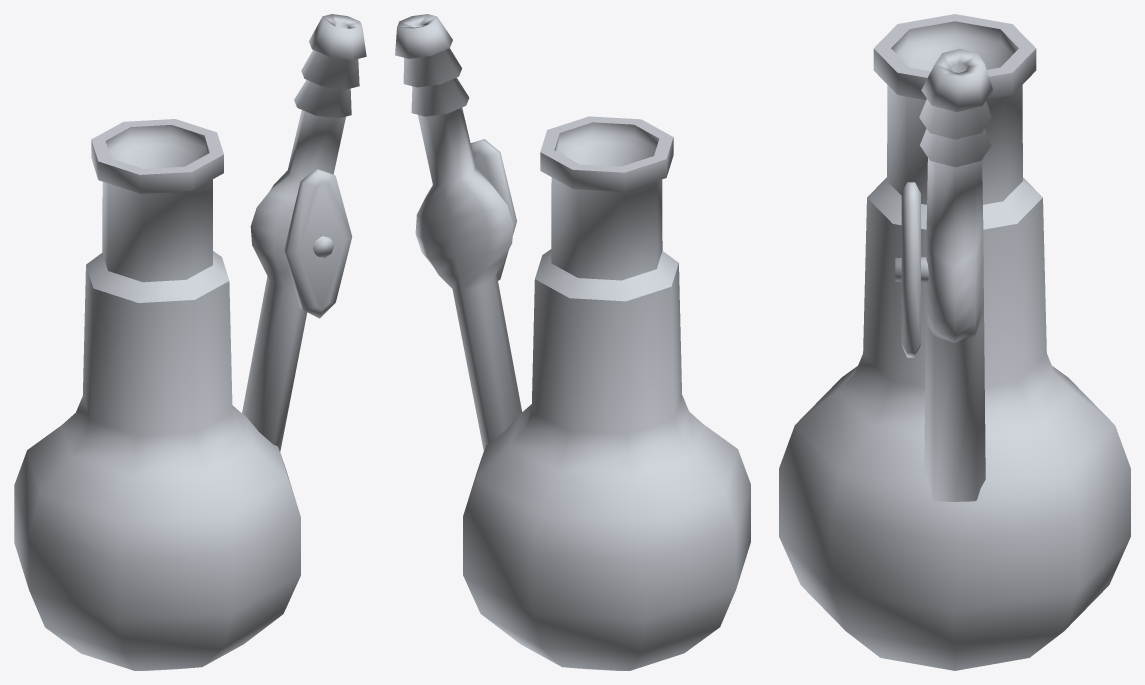
Rendered from bottle_glassware_schlenk_flask_small.glb.
3 views of the same model, side by side, from view 1: azimuth 30°, elevation 25°; view 2: azimuth 150°, elevation 25°; view 3: azimuth 270°, elevation 25° (orthographic). The views are drawn at different scales.
Parts seen in each view (by area): view 1: bottle_glassware_schlenk_flask_small, bottle_glassware_schlenk_flask_small_knob; view 2: bottle_glassware_schlenk_flask_small, bottle_glassware_schlenk_flask_small_knob; view 3: bottle_glassware_schlenk_flask_small, bottle_glassware_schlenk_flask_small_knob.
Part boxes in pixels (<box>): bottle_glassware_schlenk_flask_small: <box>14,14,366,670</box>; bottle_glassware_schlenk_flask_small_knob: <box>284,168,352,318</box>; bottle_glassware_schlenk_flask_small: <box>395,14,750,670</box>; bottle_glassware_schlenk_flask_small_knob: <box>470,139,516,280</box>; bottle_glassware_schlenk_flask_small: <box>779,14,1130,670</box>; bottle_glassware_schlenk_flask_small_knob: <box>901,182,920,357</box>.
Size of the model in its own units: 10.65 by 17.92 by 8.17.
Materials: 1 (1 with a texture image).
